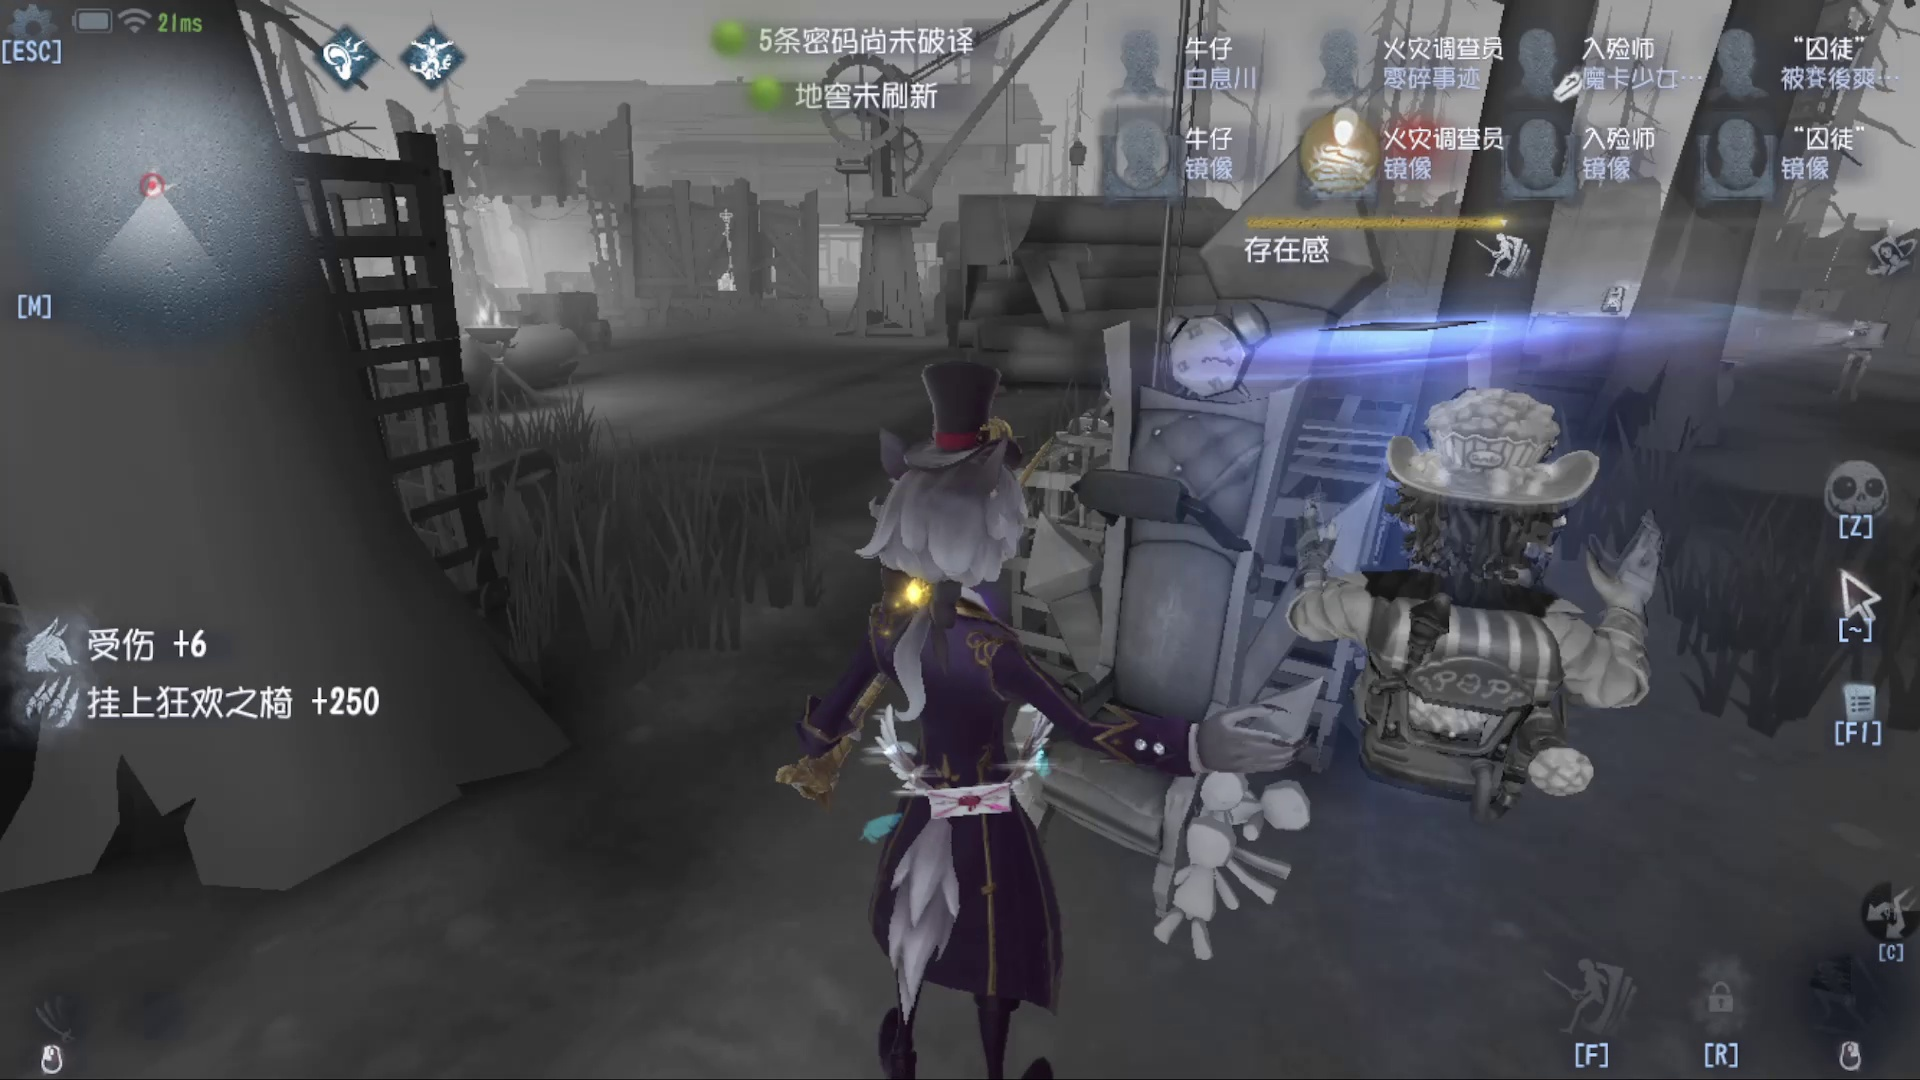密码机: (713, 200, 756, 319)
狂欢之椅: (1055, 161, 1305, 911)
